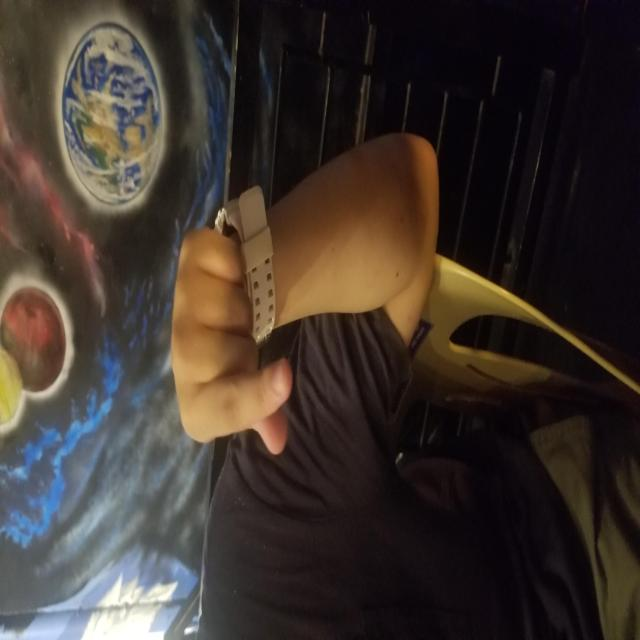Z: (184, 170, 414, 296)
